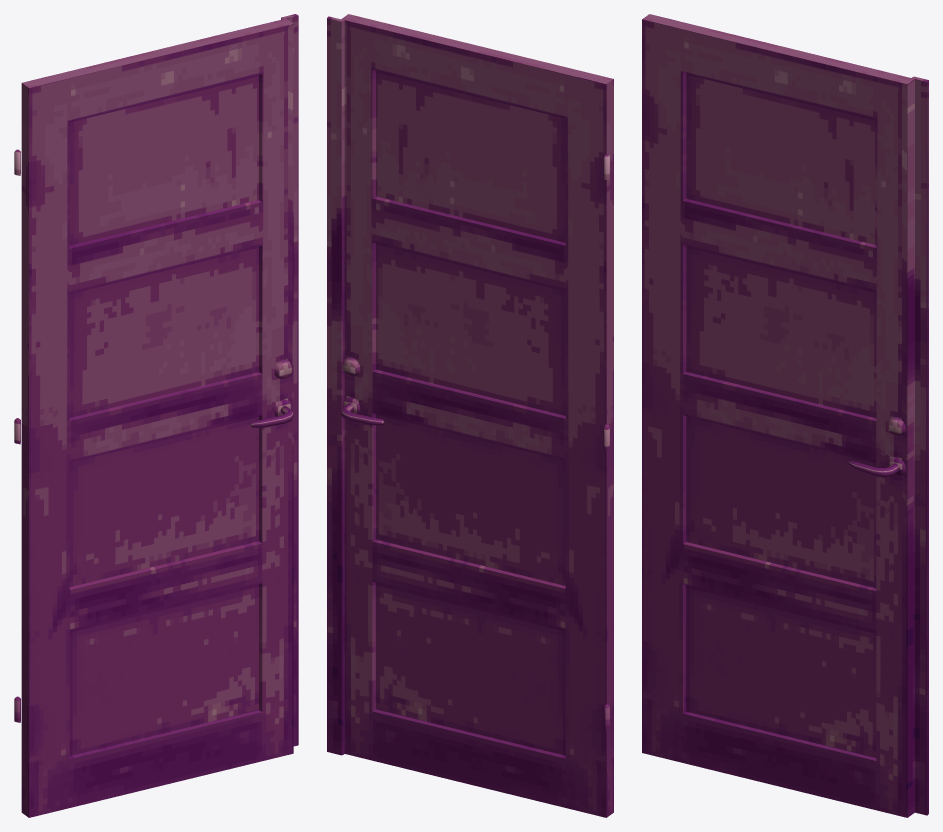
The model's file is door_left.glb.
3 views of the same model, side by side, from view 1: azimuth 30°, elevation 25°; view 2: azimuth 150°, elevation 25°; view 3: azimuth 330°, elevation 25° (orthographic).
Visible parts, largest first — view 1: Object_8.001; view 2: Object_8.001; view 3: Object_8.001.
Part boxes in pixels (box(x1,y1,x2,y2)): Object_8.001: box(14, 14, 298, 817); Object_8.001: box(327, 14, 613, 817); Object_8.001: box(642, 14, 928, 817).
Bounding box in the file's own units: 1.25 × 3.09 × 0.248.
2 materials, 2 textured.
